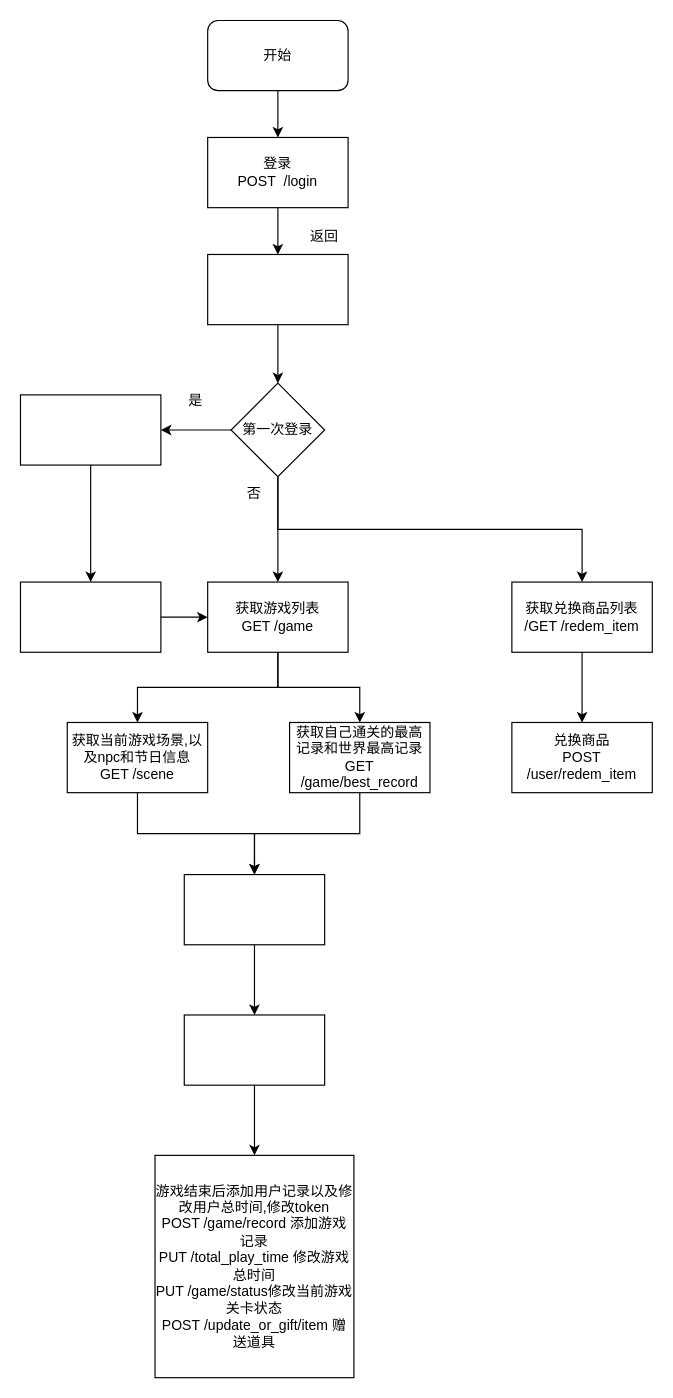
Some shapes in this 673 by 1398 pixel diagram are drawn without their labels. The centre of each missing label's shape, as x and y in pixels:
play: pixel 254 909
提交用户头像以及其他信息 POST /avatars: pixel 90 429
消耗道具 POST /use/items: pixel 254 1049
用户信息: pixel 277 289
获取最新的用户信息 GET /userinfo: pixel 90 616
